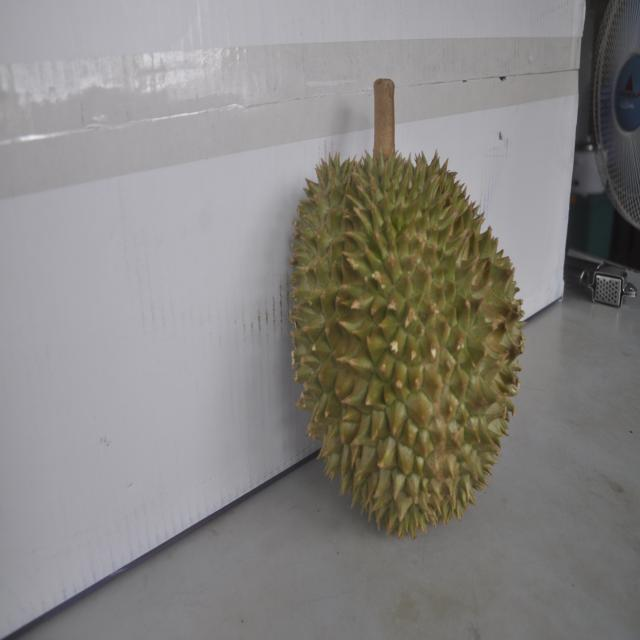mature: (296, 130, 520, 532)
